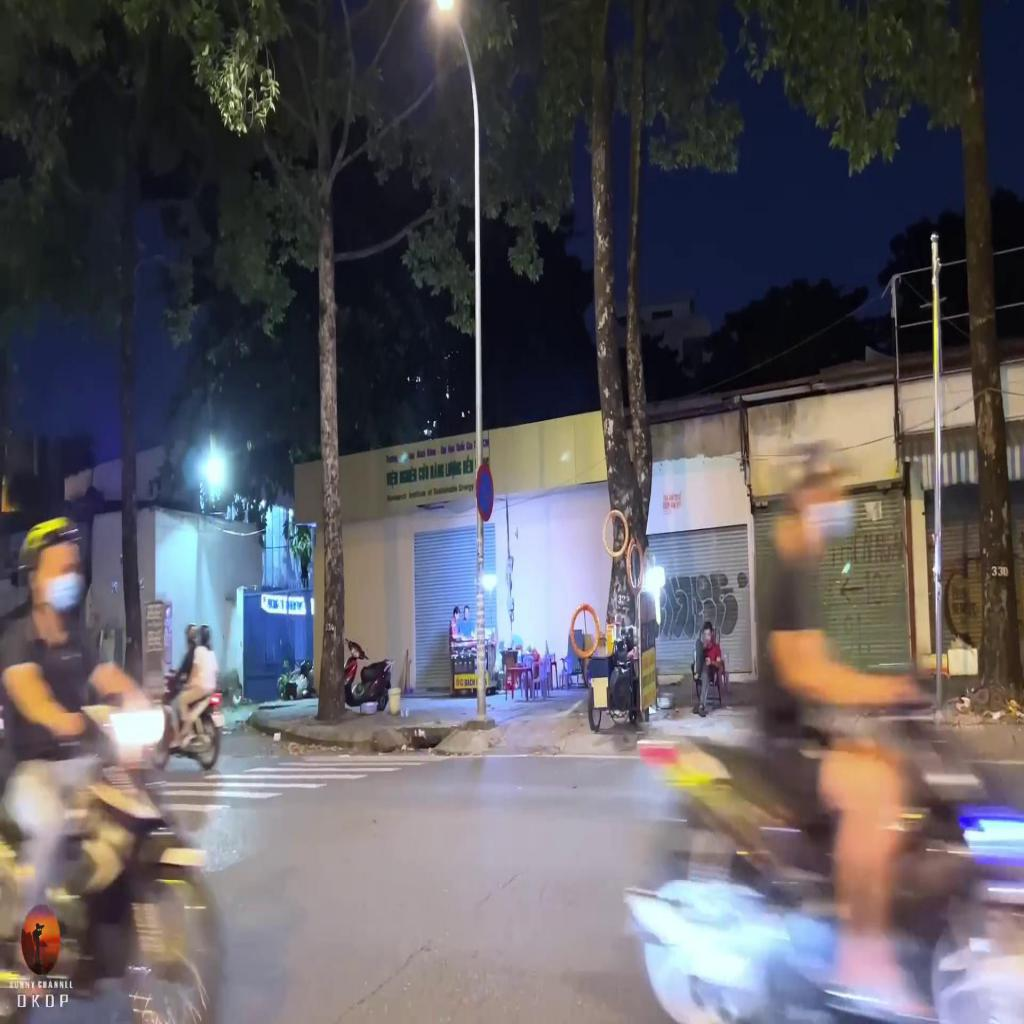cam_do_xe: (475, 462, 494, 523)
